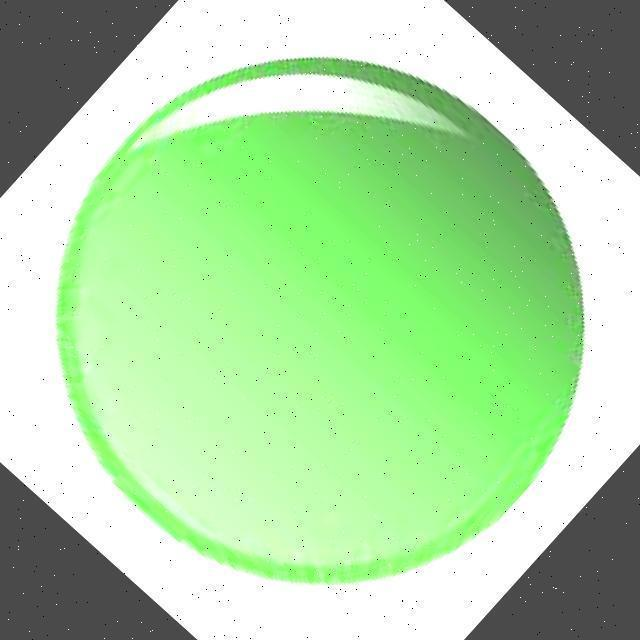Circle: (51, 51, 590, 588)
